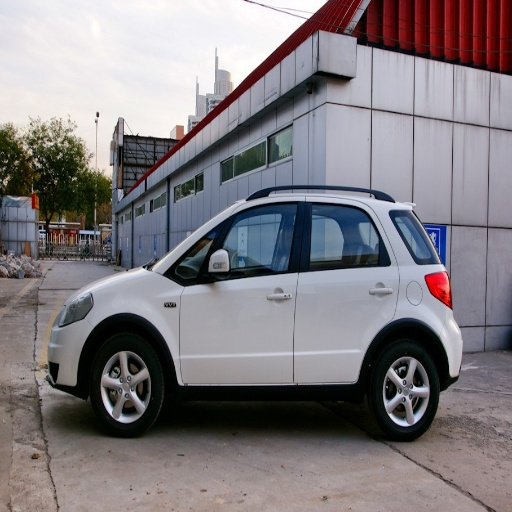back_left_door: (294, 198, 399, 381)
front_left_door: (180, 199, 302, 382)
